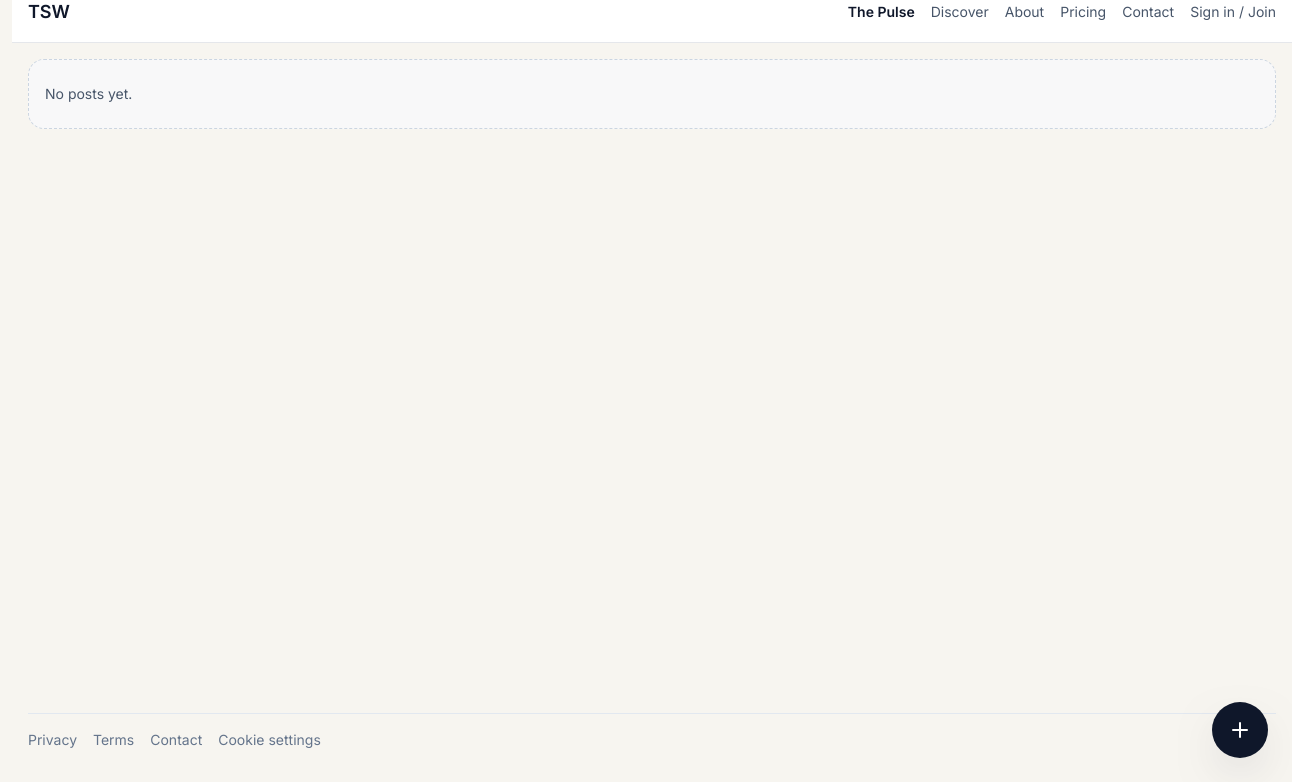
Test: AppRouter › logged-out pulse fab routes to register with compose redirect
The width and height of the screenshot is (1292, 782).
Click the button named "Create post" at (1240, 730), box x1=1212 y1=702 x2=1268 y2=758
(page scrolled)
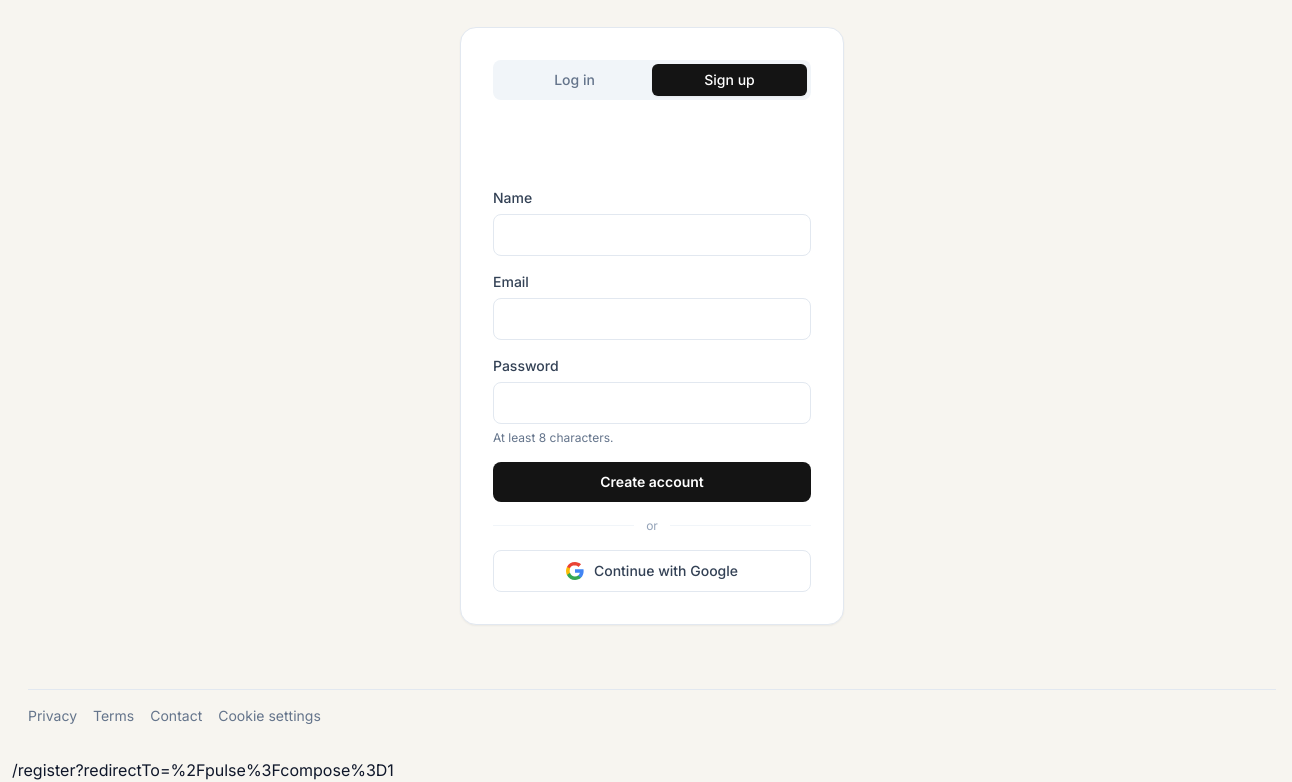
Result: the button "Create account" is shown at x1=493 y1=462 x2=811 y2=502
Result: the text with test id "location" reads "/register?redirectTo=%2Fpulse%3Fcompose%3D1" at x1=12 y1=760 x2=394 y2=780
